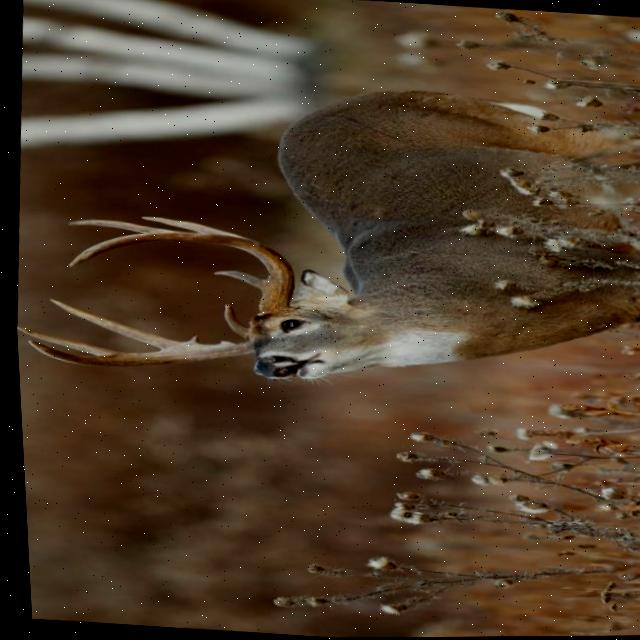E1: (180, 335, 194, 344)
L-G1: (219, 304, 244, 341)
L-G2: (44, 298, 178, 350)
L-G3: (13, 326, 114, 356)
R-F: (63, 232, 294, 316)
R-G1: (209, 271, 261, 289)
R-G2: (137, 216, 257, 244)
R-G3: (64, 219, 170, 233)
